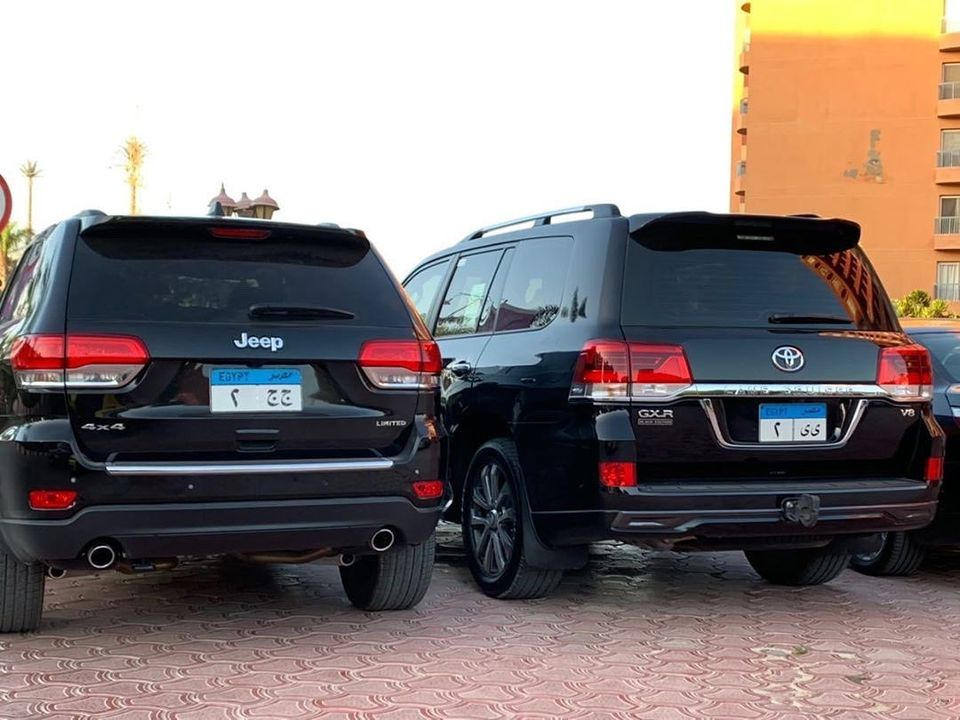carpl: (209, 369, 305, 410), (759, 410, 832, 442)
